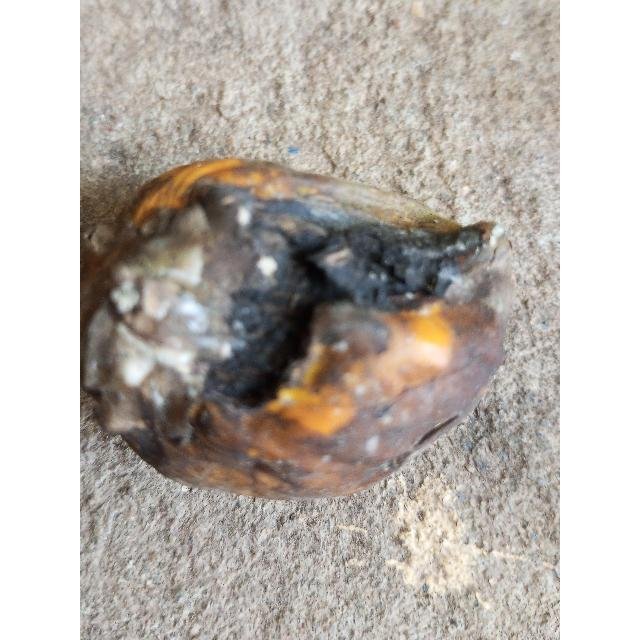damaged: (80, 158, 514, 503)
